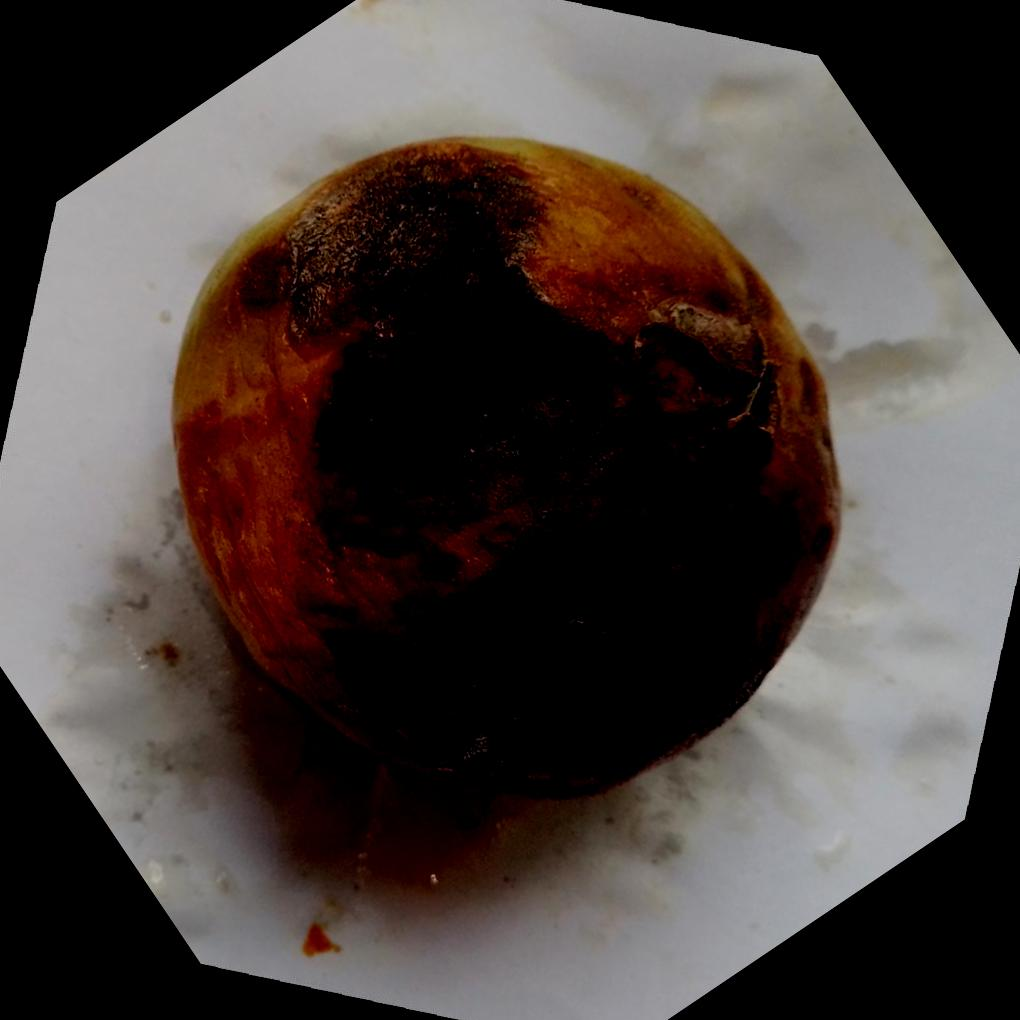FreshOrange: (169, 135, 847, 804)
